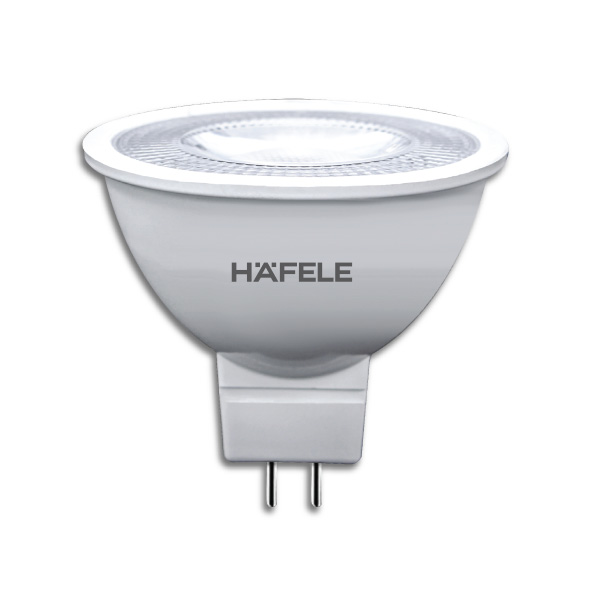Light_bulb: (73, 88, 524, 532)
